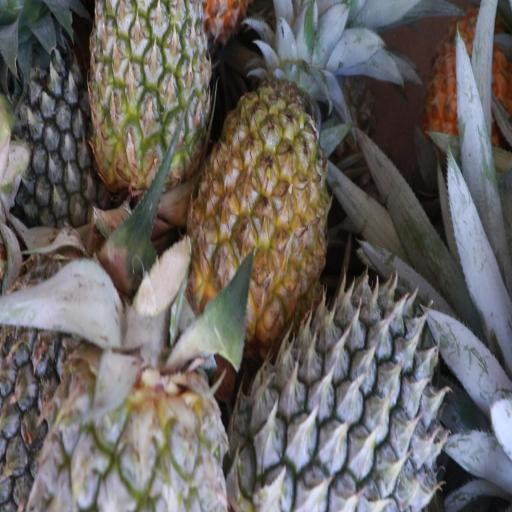------------------------------: (93, 0, 209, 184)
Pineapple - v8 v1: (190, 87, 328, 329)
